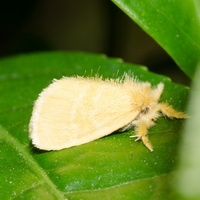insect: (29, 73, 187, 150)
